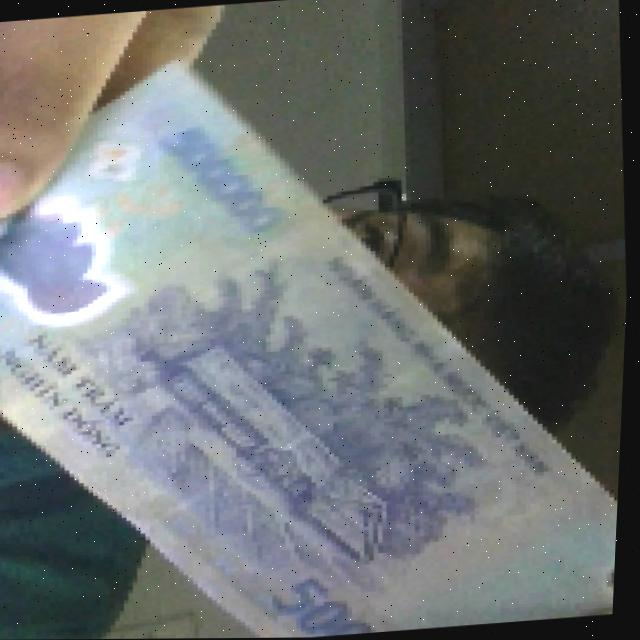500 000 VND: (0, 18, 639, 640)
